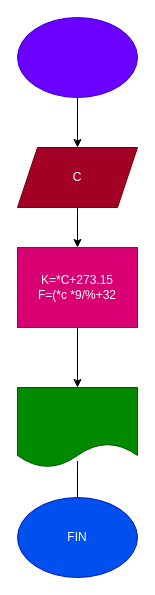
Image size: 155x595. Some labels were removed from this diagram. The shapes that lost their labels are listed below. From the top down, each one's box as (x1, y1, x2, y2) in pixels, then its label:
(16, 16, 138, 98): INICIO
(16, 386, 138, 468): K,F
